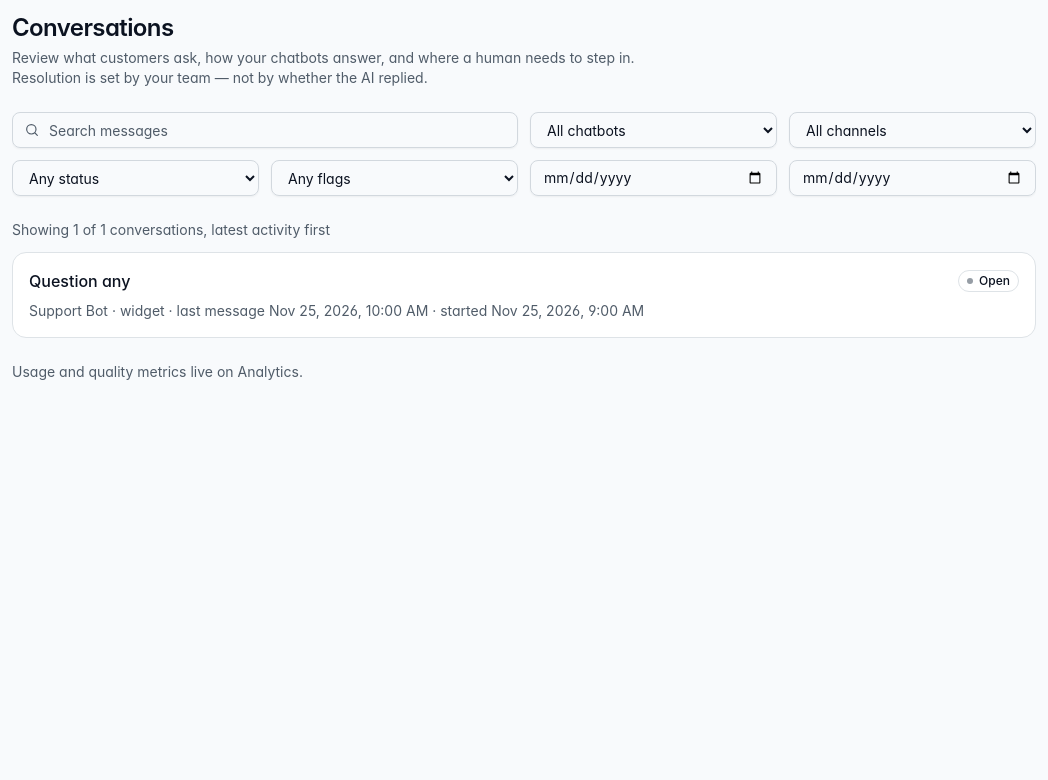
inbox scope changes › ignores an error from an earlier filter after the screen has moved on
This screenshot has width=1048, height=780.
Expected: the text "Question any" is shown, x1=29 y1=269 x2=130 y2=293
Select "Open" in the dropdown named "Status" at coordinates (136, 178), box x1=12 y1=160 x2=259 y2=196
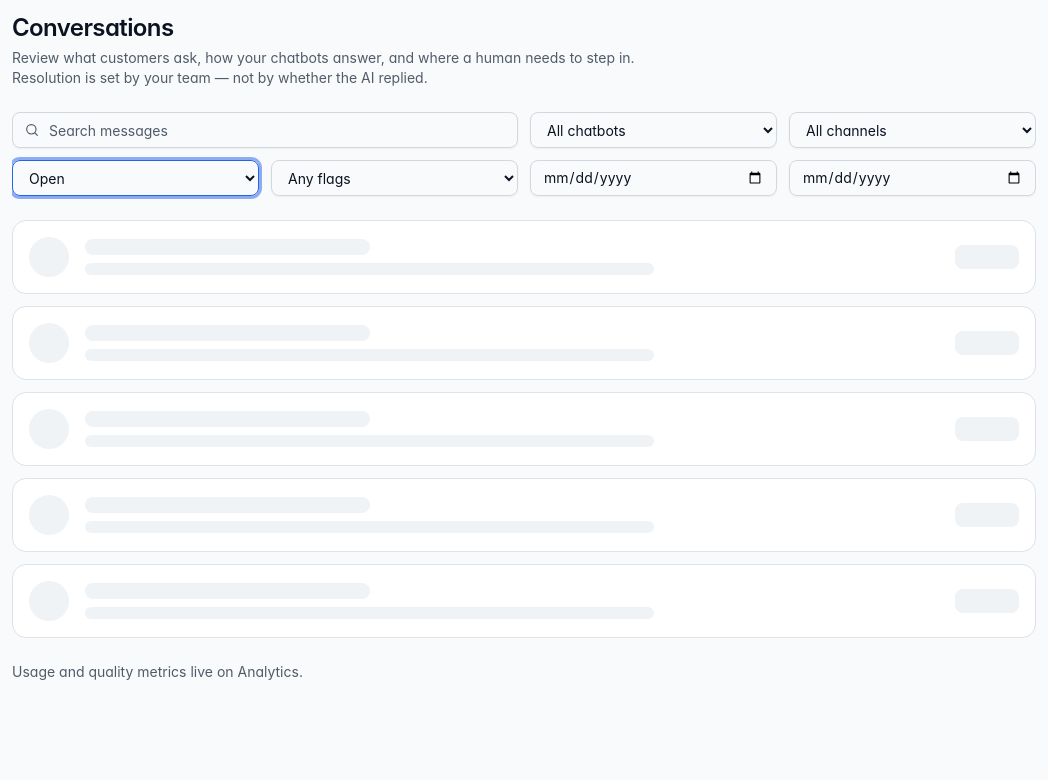
Select "Resolved" in the dropdown named "Status" at coordinates (136, 178), box x1=12 y1=160 x2=259 y2=196
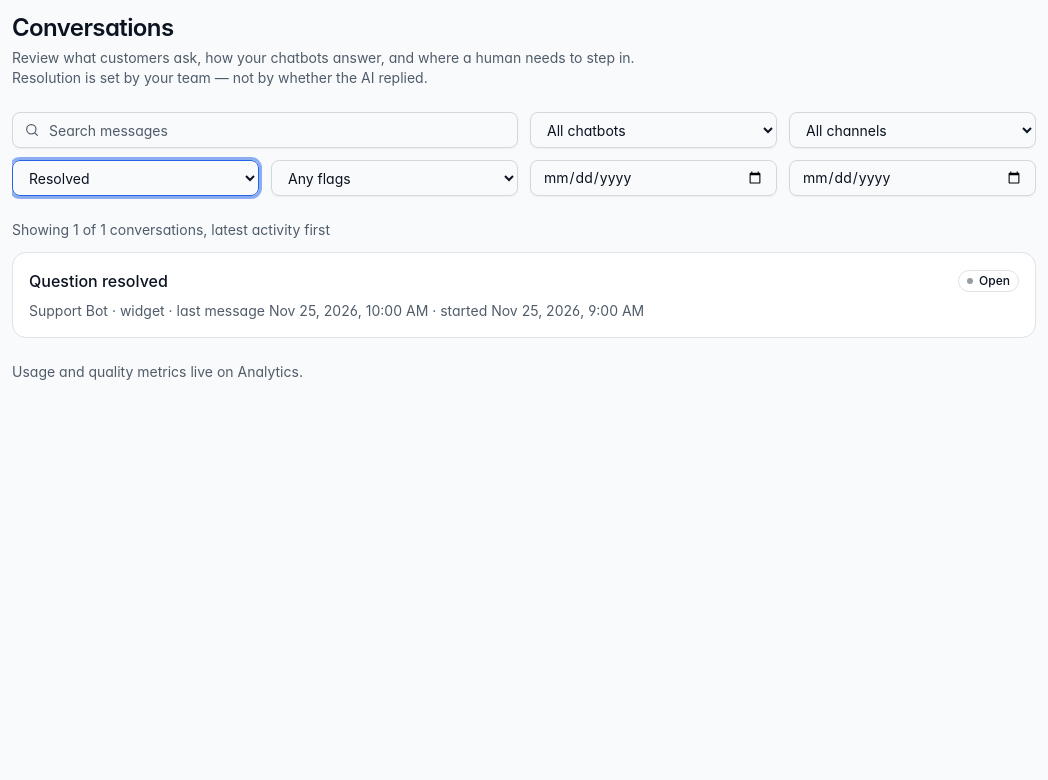
Expected: the text "Question resolved" is shown, x1=29 y1=269 x2=168 y2=293
